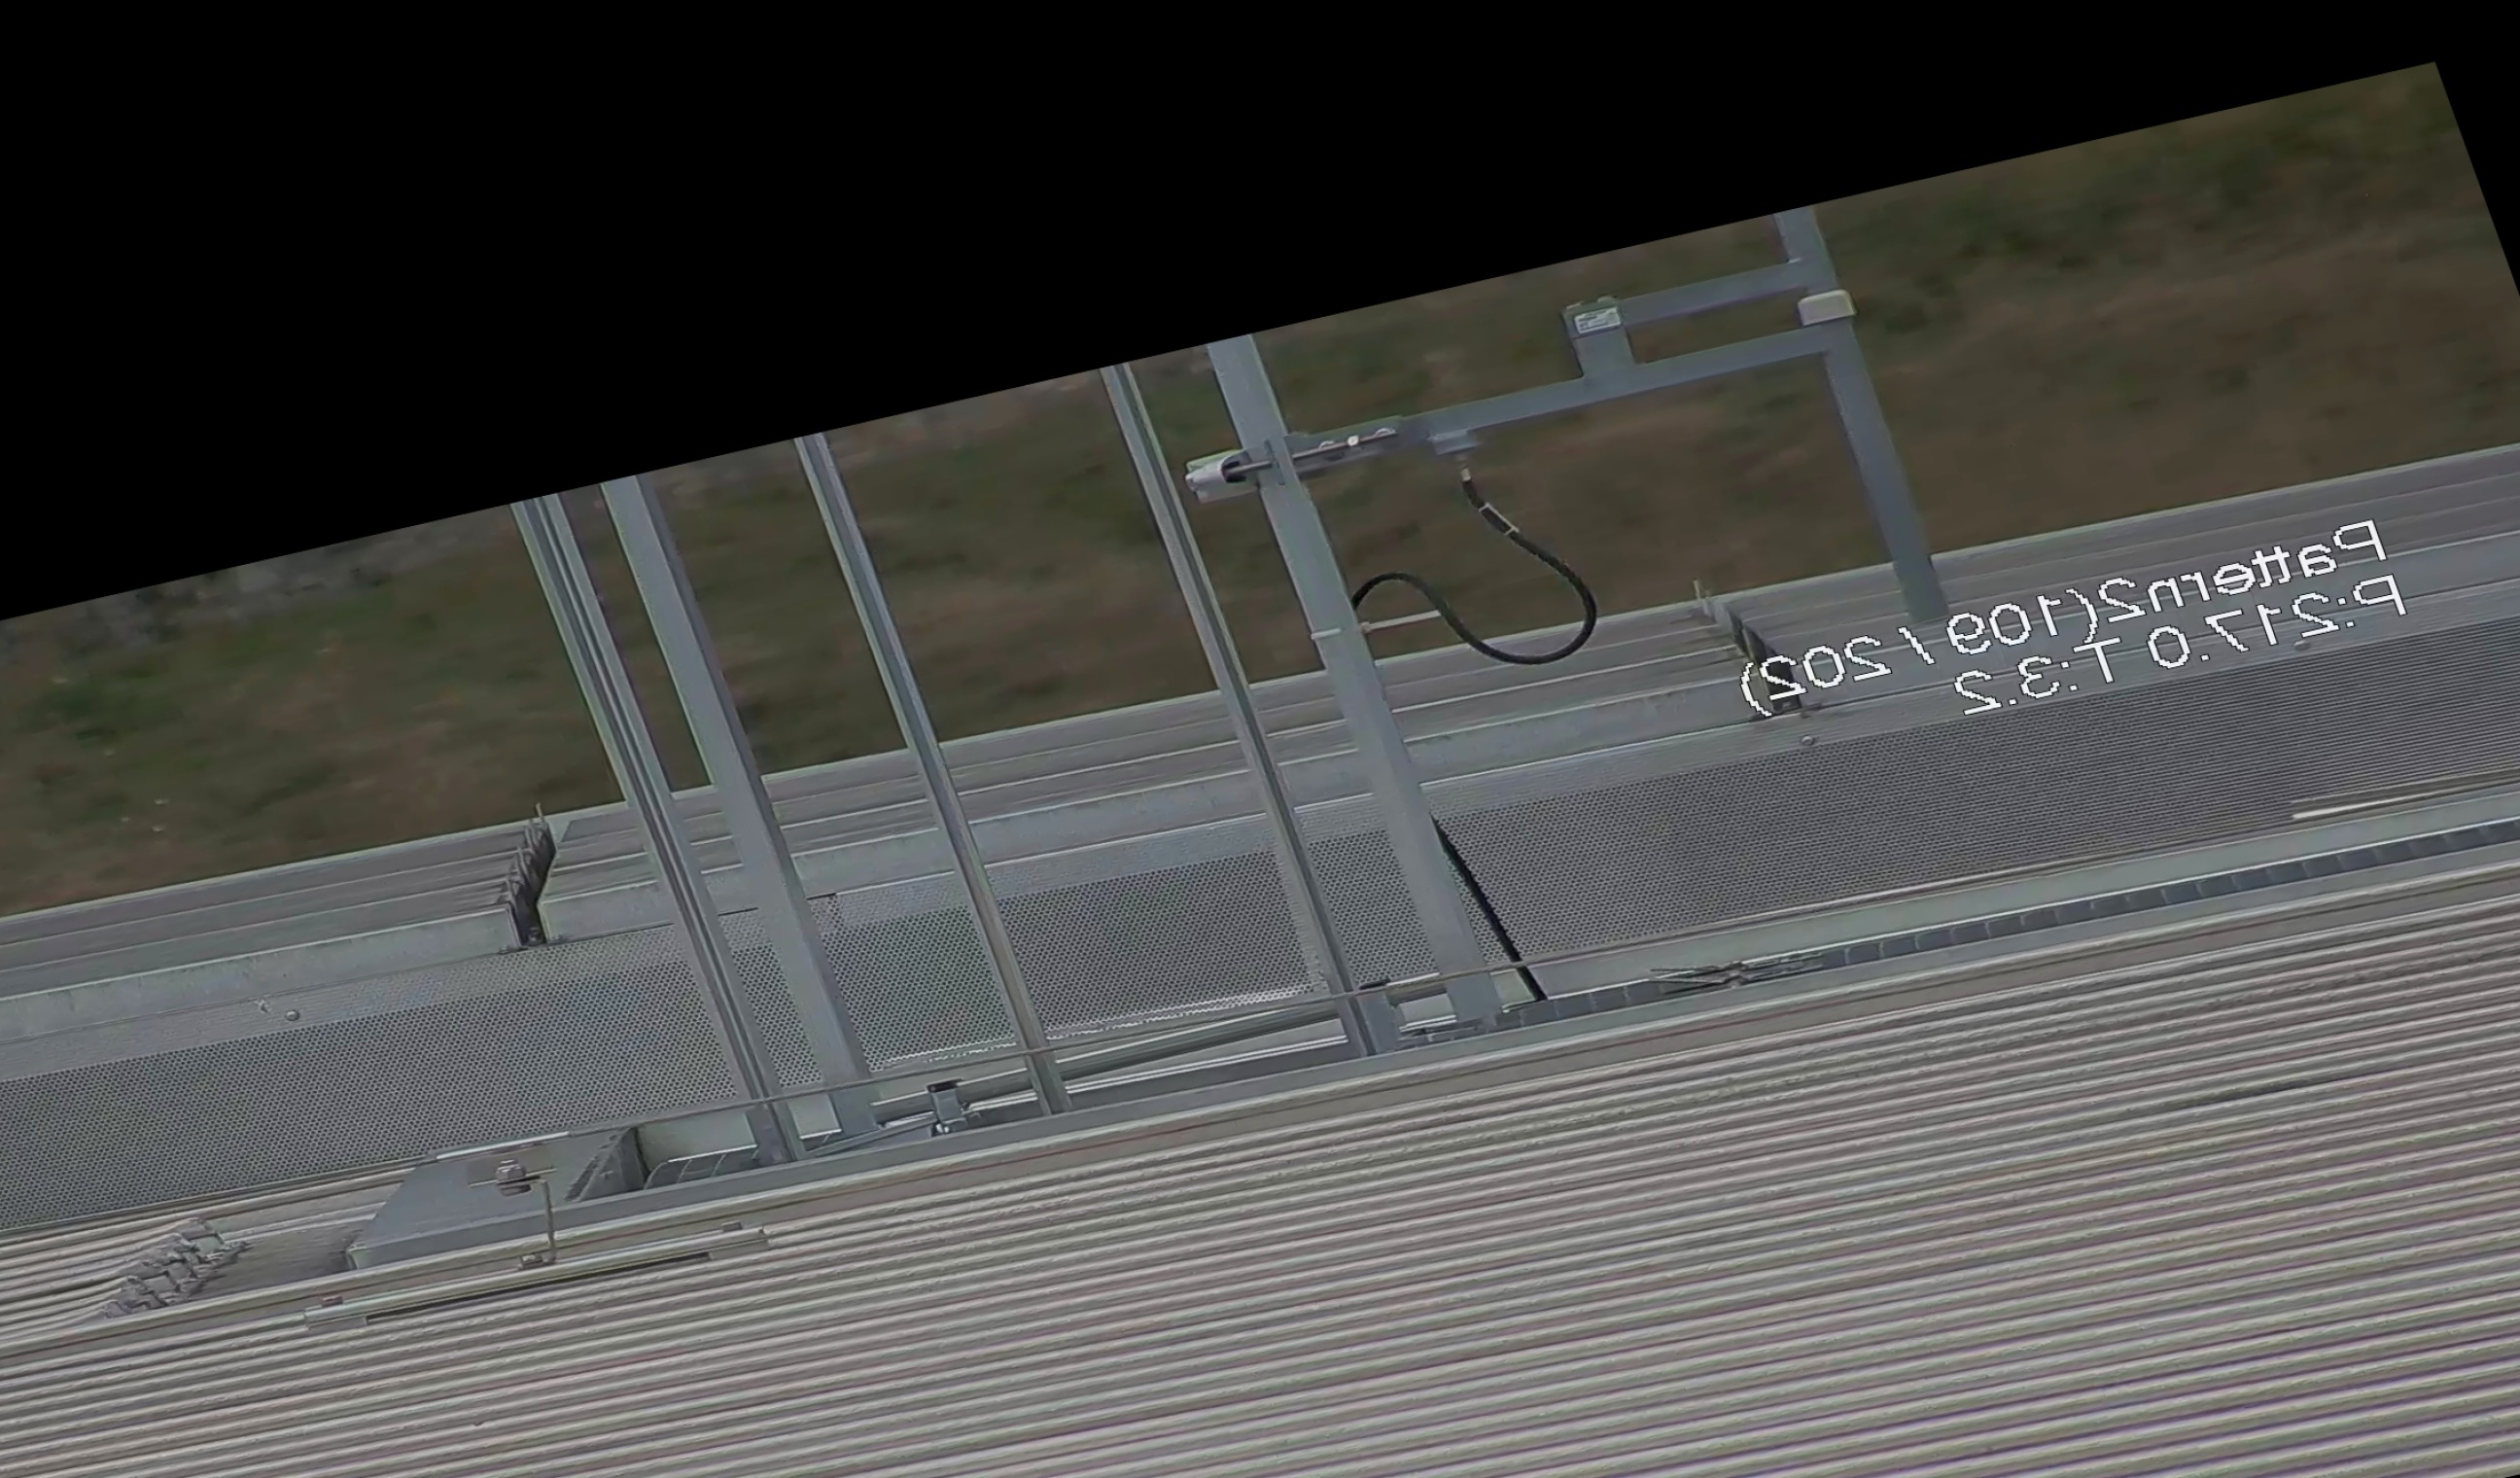Other: (438, 785, 621, 955)
